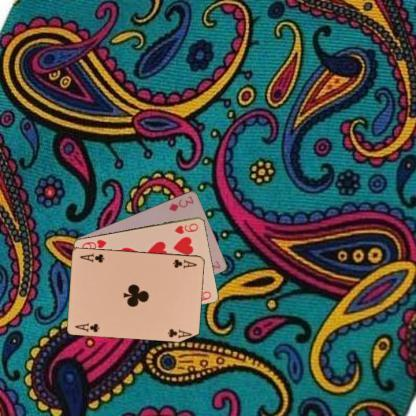3d: (166, 194, 195, 212)
9h: (172, 220, 200, 235)
Ac: (72, 320, 102, 334), (170, 256, 198, 270)
